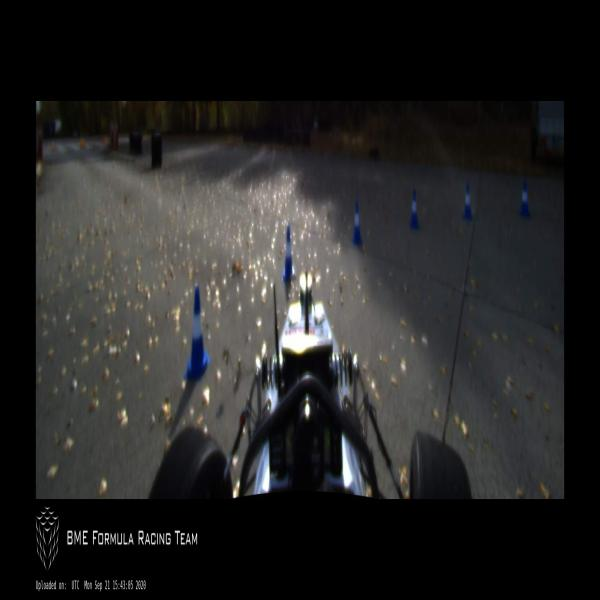blue_cone: (184, 288, 210, 381), (282, 226, 295, 278), (351, 200, 363, 242), (462, 180, 473, 221), (408, 189, 419, 229), (518, 181, 530, 216)
